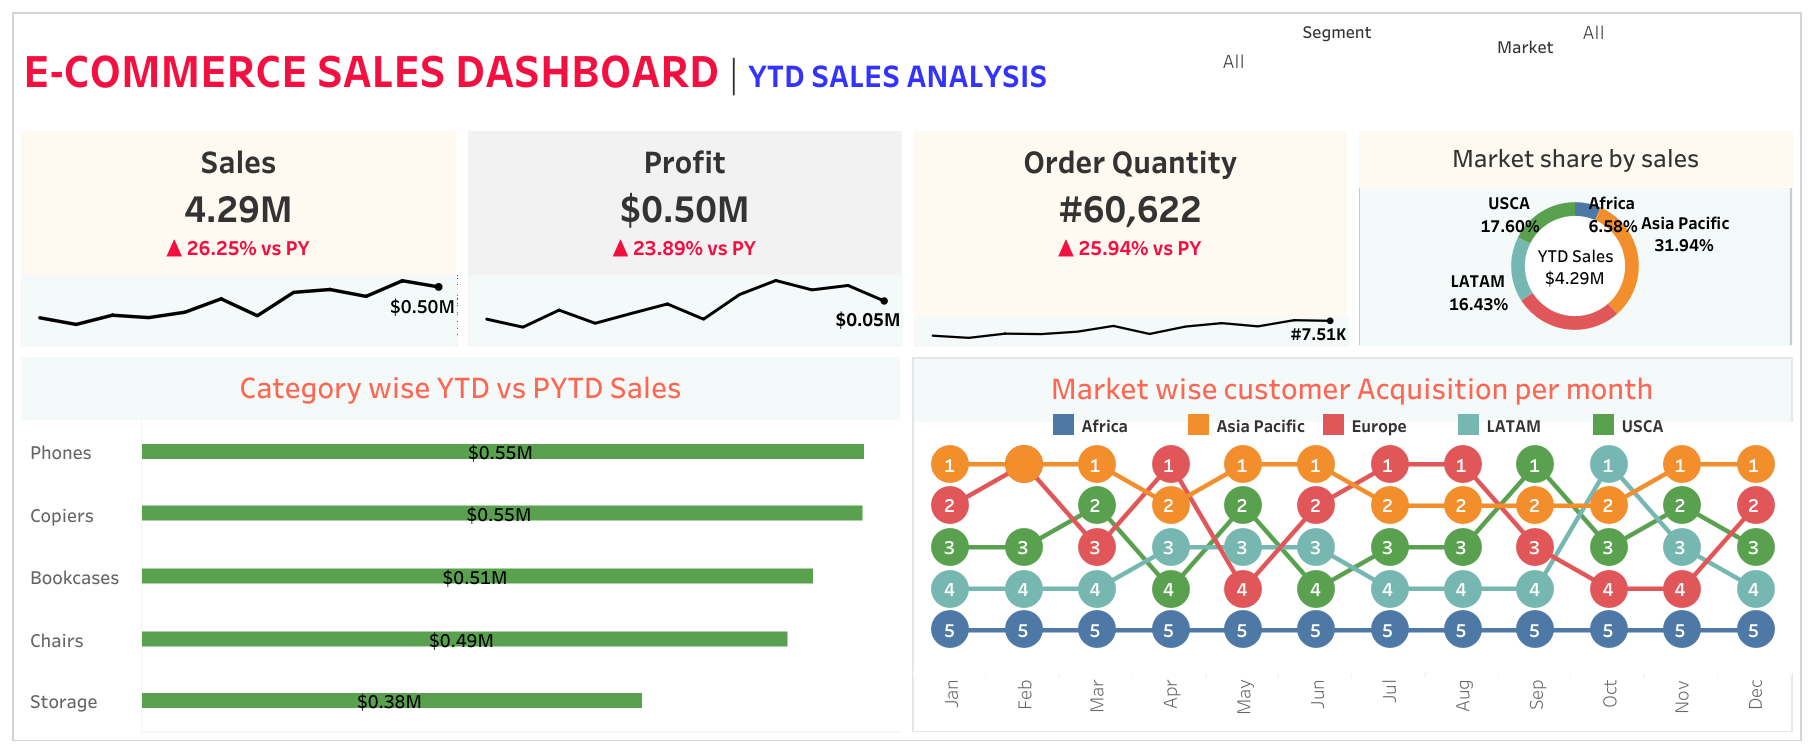

The dashboard page shown, as its layout file describes it:
{"tool":"tableau","page":{"name":"Dashboard 1","canvas":[1000,1000],"units":"permille","ordinal":0},"visuals":[{"type":"title","box":[4.8,11.2,990.4,90.6]},{"type":"filter","title":"Sales KPI","param":"[federated.05q4bkw1ivik8f0zn03hb1uuuq4y].[none:Segment:nk]","box":[672.7,23.6,129.7,78.2]},{"type":"filter","title":"Sales KPI","param":"[federated.05q4bkw1ivik8f0zn03hb1uuuq4y].[none:Market:nk]","box":[811.7,24.8,124.1,70.7]},{"type":"worksheet","title":"Sales KPI","mark":"Automatic","rows":["Sales"],"cols":["Order Date"],"box":[5.3,103,247.6,187.3]},{"type":"worksheet","title":"Profit KPI","mark":"Automatic","rows":["Profit"],"cols":["Order Date"],"box":[252.9,103,247.6,187.3]},{"type":"worksheet","title":"Order Quantity KPI","mark":"Automatic","rows":["Quantity"],"cols":["Order Date"],"box":[500.5,103,247.1,187.3]},{"type":"worksheet","title":"Market share by sales","mark":"Pie","cols":["Calculation_916482564148473872","Calculation_916482564148514834"],"box":[747.6,103,247.1,187.3]},{"type":"worksheet","title":"Category wise YTD vs PYTD Sales","mark":"Bar","rows":["Sub-Category"],"cols":["Calculation_916482564149366803"],"box":[5.3,290.3,494.4,697.3]},{"type":"worksheet","title":"Market wise customer Acquisition per month","mark":"Automatic","cols":["Order Date"],"box":[499.7,290.3,495,697.3]}]}

Visuals, with their boxes on the dashboard's canvas, which has no fixed pixel size, in thousandths of its width and height (x1, y1, x2, y2). These are canvas units, not pixel positions in the 1812x752 screenshot, which may show the page scaled, cropped or inside an application window:
title: x1=5, y1=11, x2=995, y2=102
"Sales KPI" filter: x1=673, y1=24, x2=802, y2=102
"Sales KPI" filter: x1=812, y1=25, x2=936, y2=96
"Sales KPI" worksheet: x1=5, y1=103, x2=253, y2=290
"Profit KPI" worksheet: x1=253, y1=103, x2=500, y2=290
"Order Quantity KPI" worksheet: x1=500, y1=103, x2=748, y2=290
"Market share by sales" worksheet (Pie marks): x1=748, y1=103, x2=995, y2=290
"Category wise YTD vs PYTD Sales" worksheet (Bar marks): x1=5, y1=290, x2=500, y2=988
"Market wise customer Acquisition per month" worksheet: x1=500, y1=290, x2=995, y2=988
